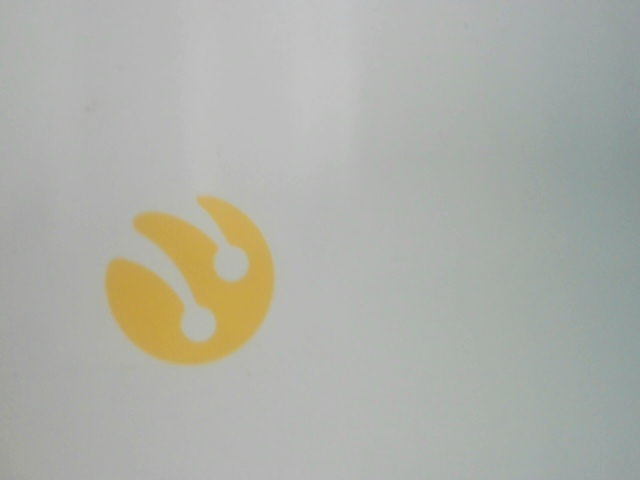AV_H3600Yellow: (90, 193, 283, 367)
